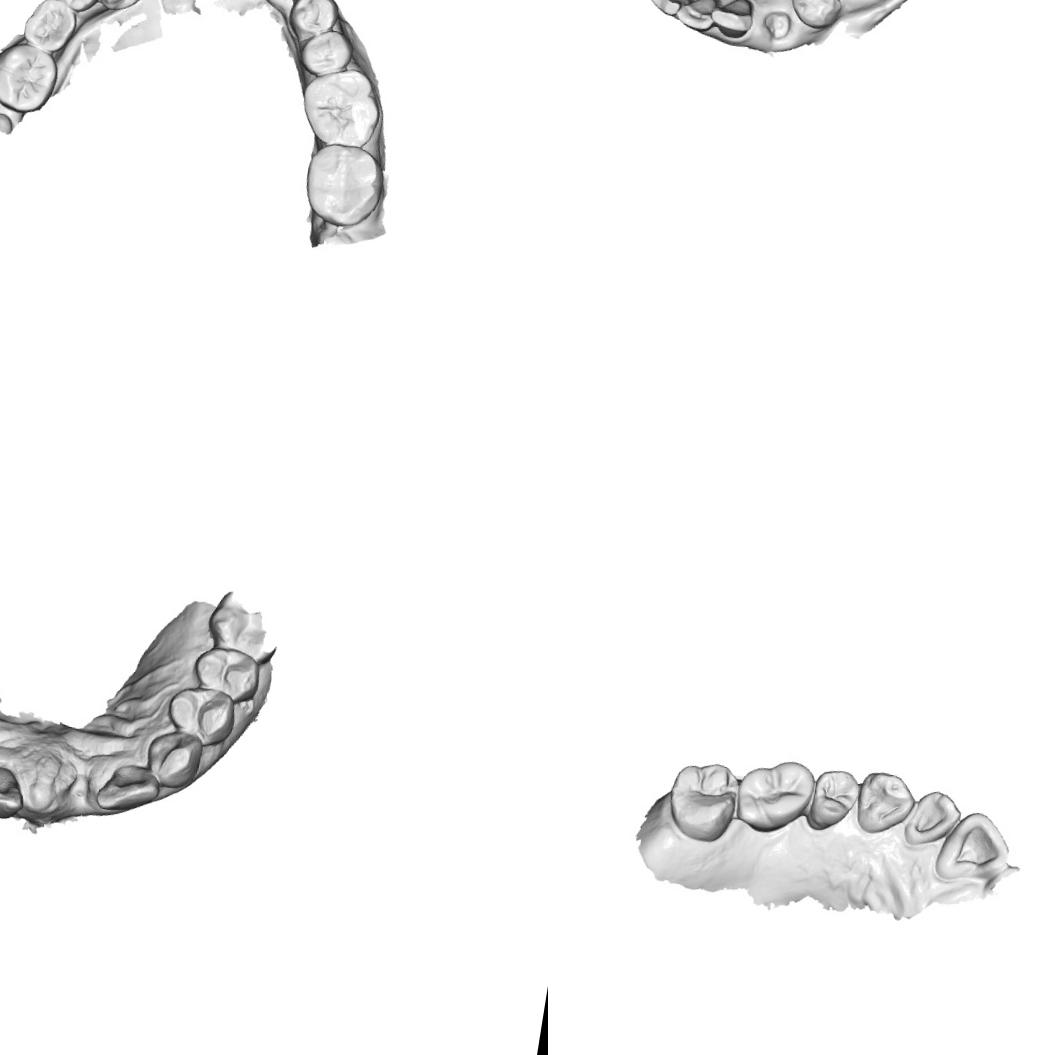canine: (851, 767, 919, 840), (138, 726, 205, 794)
incisor: (930, 805, 1018, 891), (92, 758, 166, 820), (900, 784, 967, 852), (706, 0, 756, 42), (0, 759, 31, 824), (673, 0, 719, 34), (644, 0, 696, 19)
molar: (296, 137, 390, 233), (295, 61, 387, 152), (732, 752, 818, 839), (662, 755, 744, 846), (200, 586, 288, 668), (0, 38, 62, 118), (19, 0, 80, 55)
premolar: (162, 680, 246, 750), (184, 642, 265, 704), (805, 765, 862, 836), (296, 25, 357, 80), (285, 0, 342, 41), (786, 0, 846, 33), (91, 0, 147, 15), (51, 0, 103, 14)
